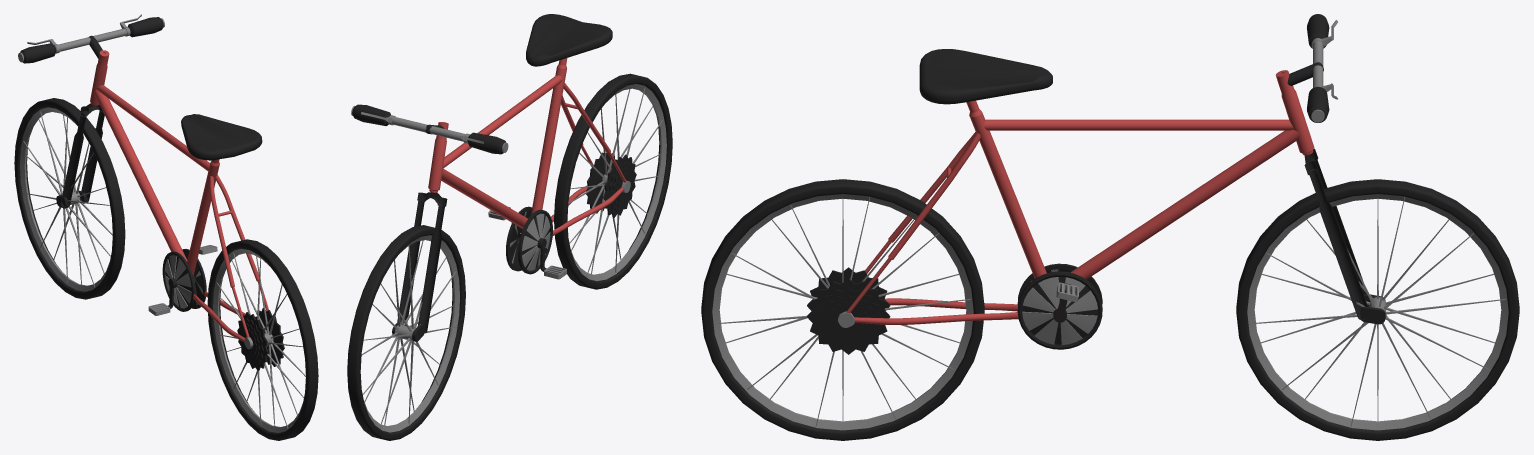
File: bicycle.fbx
3 renders of one model, left to right at view 1: azimuth 30°, elevation 25°; view 2: azimuth 150°, elevation 25°; view 3: azimuth 270°, elevation 25°, orthographic. The views are drawn at different scales.
Parts seen in each view (by area): view 1: govde, tekerlekon, tekerlekarka, pedal.002; view 2: govde, tekerlekon, tekerlekarka, pedal.002; view 3: govde, tekerlekon, tekerlekarka.
Boxes of the visible parts, bbox=[...] form: govde: bbox=[18, 14, 284, 370]; tekerlekon: bbox=[14, 98, 125, 299]; tekerlekarka: bbox=[207, 239, 318, 440]; pedal.002: bbox=[148, 278, 175, 315]; govde: bbox=[351, 14, 636, 341]; tekerlekon: bbox=[347, 225, 465, 440]; tekerlekarka: bbox=[554, 73, 672, 289]; pedal.002: bbox=[539, 238, 566, 279]; govde: bbox=[807, 14, 1385, 354]; tekerlekon: bbox=[1236, 179, 1519, 440]; tekerlekarka: bbox=[701, 179, 984, 440].
Bounding box in the file's own units: 79.05 × 146 × 285.
